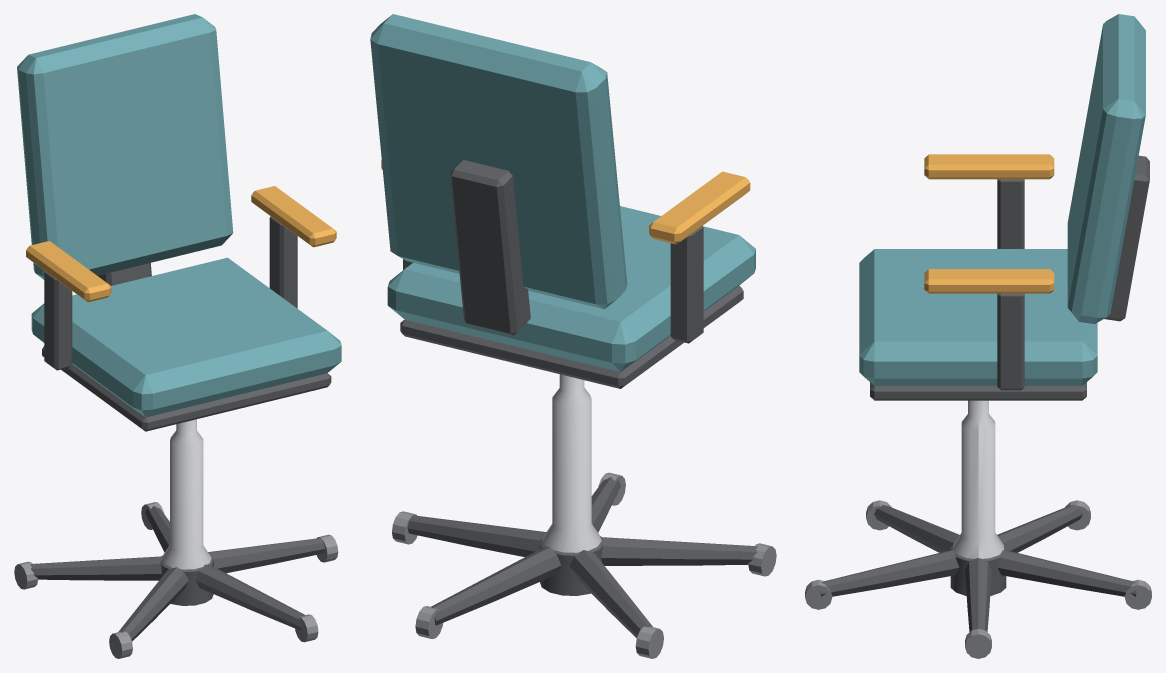
The model's file is 35516_Gallery_Operator_Chair__TV_Studio_and_Broadcast_Gallery_.glb.
3 renders of one model, left to right at view 1: azimuth 30°, elevation 25°; view 2: azimuth 150°, elevation 25°; view 3: azimuth 270°, elevation 25°, orthographic. The views are drawn at different scales.
Visible parts, largest first — view 1: seat/fabric, gallery-chair, seat/dark, seat/accent; view 2: seat/fabric, gallery-chair, seat/dark, seat/accent; view 3: seat/fabric, gallery-chair, seat/dark, seat/accent.
Boxes of the visible parts, x1=… form: seat/fabric: x1=17, y1=14, x2=341, y2=417; gallery-chair: x1=14, y1=419, x2=338, y2=658; seat/dark: x1=42, y1=216, x2=331, y2=431; seat/accent: x1=26, y1=186, x2=336, y2=302; seat/fabric: x1=370, y1=14, x2=755, y2=372; gallery-chair: x1=392, y1=374, x2=776, y2=658; seat/dark: x1=400, y1=160, x2=743, y2=388; seat/accent: x1=381, y1=160, x2=750, y2=244; seat/fabric: x1=859, y1=14, x2=1145, y2=385; gallery-chair: x1=805, y1=400, x2=1151, y2=658; seat/dark: x1=870, y1=155, x2=1149, y2=400; seat/accent: x1=924, y1=154, x2=1054, y2=293.
Size of the model in its own units: 0.602 by 1.08 by 0.6401.
